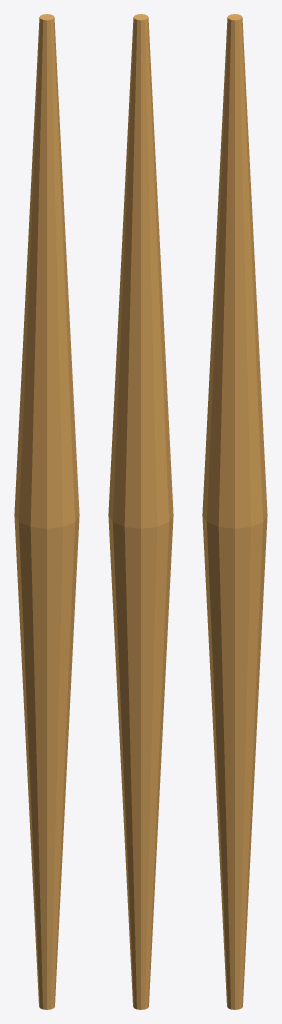
File: SM_Kurdan 1.fbx
3 renders of one model, left to right at view 1: azimuth 30°, elevation 25°; view 2: azimuth 150°, elevation 25°; view 3: azimuth 330°, elevation 25°, orthographic.
Parts seen in each view (by area): view 1: Cylinder.004; view 2: Cylinder.004; view 3: Cylinder.004.
Boxes of the visible parts, box(x1,y1,x2,y2) form: Cylinder.004: box(14, 14, 79, 1009); Cylinder.004: box(108, 14, 173, 1009); Cylinder.004: box(202, 14, 267, 1009).
Size of the model in its own units: 4.18 by 70 by 4.18.
